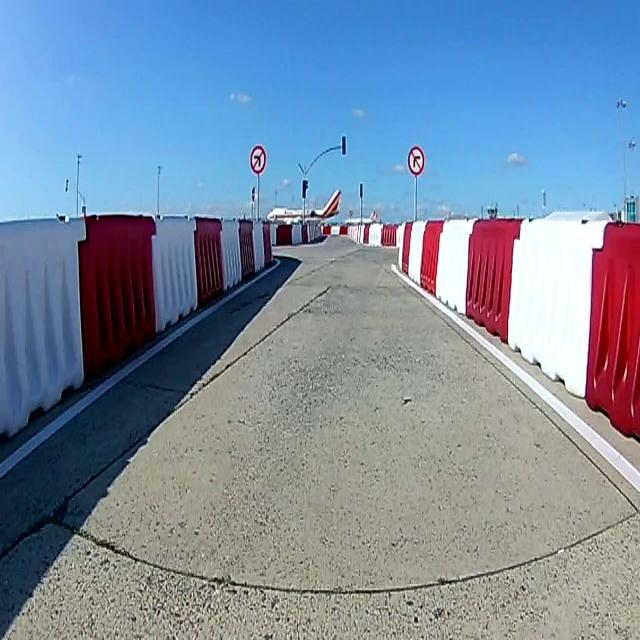sagadonulmez: (408, 145, 424, 174)
soladonulmez: (251, 145, 265, 174)
